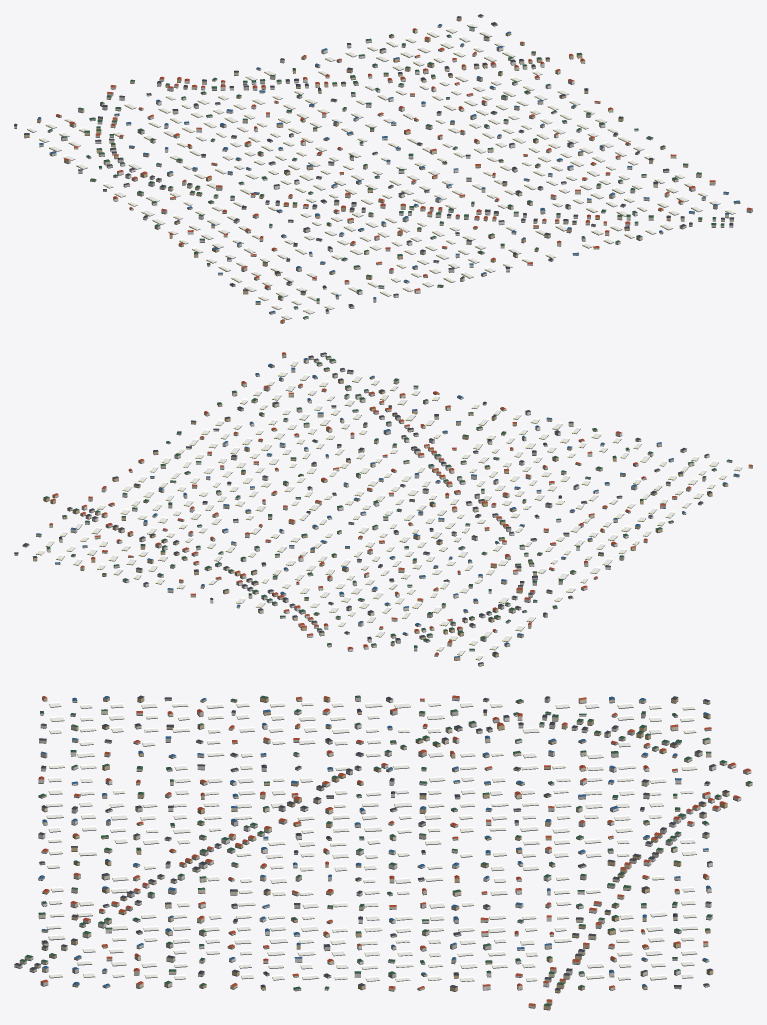
The model's file is buildings_T_W02_S06.glb.
3 renders of one model, top to bottom at view 1: azimuth 30°, elevation 25°; view 2: azimuth 150°, elevation 25°; view 3: azimuth 270°, elevation 25°, orthographic. The views are drawn at different scales.
Visible parts, largest first — view 1: T_W02_S06_roofs_agri_greenhouse_arch, T_W02_S06_slope_seating_foundations, T_W02_S06_walls_wall_dalat_cream_stucco, T_W02_S06_walls_wall_modern_warm_white, T_W02_S06_roofs_roof_pine_green_hip, T_W02_S06_walls_wall_french_ochre_villa, T_W02_S06_roofs_roof_terracotta_gable, T_W02_S06_roofs_roof_slate_French_villa_hip, T_W02_S06_walls_wall_pastel_sand_gray, T_W02_S06_roofs_roof_highland_blue_gable; view 2: T_W02_S06_roofs_agri_greenhouse_arch, T_W02_S06_slope_seating_foundations, T_W02_S06_walls_wall_dalat_cream_stucco, T_W02_S06_walls_wall_modern_warm_white, T_W02_S06_walls_wall_french_ochre_villa, T_W02_S06_roofs_roof_pine_green_hip, T_W02_S06_roofs_roof_terracotta_gable, T_W02_S06_roofs_roof_slate_French_villa_hip, T_W02_S06_walls_wall_pastel_sand_gray, T_W02_S06_roofs_roof_highland_blue_gable; view 3: T_W02_S06_roofs_agri_greenhouse_arch, T_W02_S06_slope_seating_foundations, T_W02_S06_walls_wall_dalat_cream_stucco, T_W02_S06_walls_wall_modern_warm_white, T_W02_S06_walls_wall_french_ochre_villa, T_W02_S06_roofs_roof_pine_green_hip, T_W02_S06_roofs_roof_terracotta_gable, T_W02_S06_walls_wall_pastel_sand_gray, T_W02_S06_roofs_roof_slate_French_villa_hip, T_W02_S06_roofs_roof_highland_blue_gable.
Boxes of the visible parts, x1,y1,x2,y2 form: T_W02_S06_roofs_agri_greenhouse_arch: (27,22,735,319); T_W02_S06_slope_seating_foundations: (14,16,752,323); T_W02_S06_walls_wall_dalat_cream_stucco: (14,29,733,314); T_W02_S06_walls_wall_modern_warm_white: (86,15,732,318); T_W02_S06_roofs_roof_pine_green_hip: (48,26,724,317); T_W02_S06_walls_wall_french_ochre_villa: (24,17,739,323); T_W02_S06_roofs_roof_terracotta_gable: (56,28,752,321); T_W02_S06_roofs_roof_slate_French_villa_hip: (14,14,733,311); T_W02_S06_walls_wall_pastel_sand_gray: (47,23,752,308); T_W02_S06_roofs_roof_highland_blue_gable: (37,24,740,313); T_W02_S06_roofs_agri_greenhouse_arch: (35,360,742,659); T_W02_S06_slope_seating_foundations: (14,355,752,666); T_W02_S06_walls_wall_dalat_cream_stucco: (49,356,739,666); T_W02_S06_walls_wall_modern_warm_white: (14,354,732,651); T_W02_S06_walls_wall_french_ochre_villa: (33,365,752,660); T_W02_S06_roofs_roof_pine_green_hip: (43,355,732,649); T_W02_S06_roofs_roof_terracotta_gable: (49,352,752,655); T_W02_S06_roofs_roof_slate_French_villa_hip: (14,352,712,664); T_W02_S06_walls_wall_pastel_sand_gray: (22,354,716,656); T_W02_S06_roofs_roof_highland_blue_gable: (36,358,739,657); T_W02_S06_roofs_agri_greenhouse_arch: (46,701,697,981); T_W02_S06_slope_seating_foundations: (14,699,752,1010); T_W02_S06_walls_wall_dalat_cream_stucco: (19,699,752,1008); T_W02_S06_walls_wall_modern_warm_white: (14,696,751,990); T_W02_S06_walls_wall_french_ochre_villa: (38,697,727,1009); T_W02_S06_roofs_roof_pine_green_hip: (20,695,752,1006); T_W02_S06_roofs_roof_terracotta_gable: (38,695,750,1005); T_W02_S06_walls_wall_pastel_sand_gray: (39,697,721,990); T_W02_S06_roofs_roof_slate_French_villa_hip: (14,695,729,990); T_W02_S06_roofs_roof_highland_blue_gable: (38,696,711,986).
Size of the model in its own units: 1870 by 38.4 by 1916.
